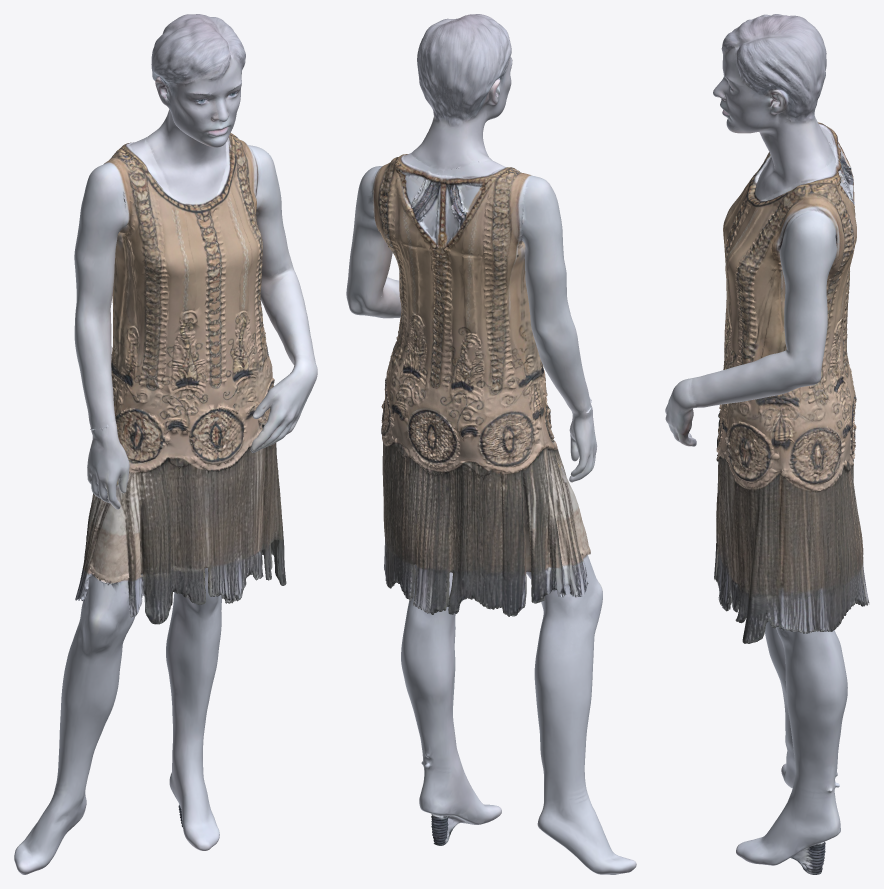
3 renders of one model, left to right at view 1: azimuth 30°, elevation 25°; view 2: azimuth 150°, elevation 25°; view 3: azimuth 270°, elevation 25°, orthographic. The views are drawn at different scales.
Parts seen in each view (by area): view 1: tripo_node_5b369070-aac9-4c46-8540-653c3cdd18b0; view 2: tripo_node_5b369070-aac9-4c46-8540-653c3cdd18b0; view 3: tripo_node_5b369070-aac9-4c46-8540-653c3cdd18b0.
Part boxes in pixels (x1=…): tripo_node_5b369070-aac9-4c46-8540-653c3cdd18b0: x1=14, y1=14, x2=317, y2=874; tripo_node_5b369070-aac9-4c46-8540-653c3cdd18b0: x1=346, y1=14, x2=636, y2=874; tripo_node_5b369070-aac9-4c46-8540-653c3cdd18b0: x1=665, y1=14, x2=869, y2=874.
Size of the model in its own units: 0.3501 by 0.9798 by 0.213.
1 material, 1 textured.
